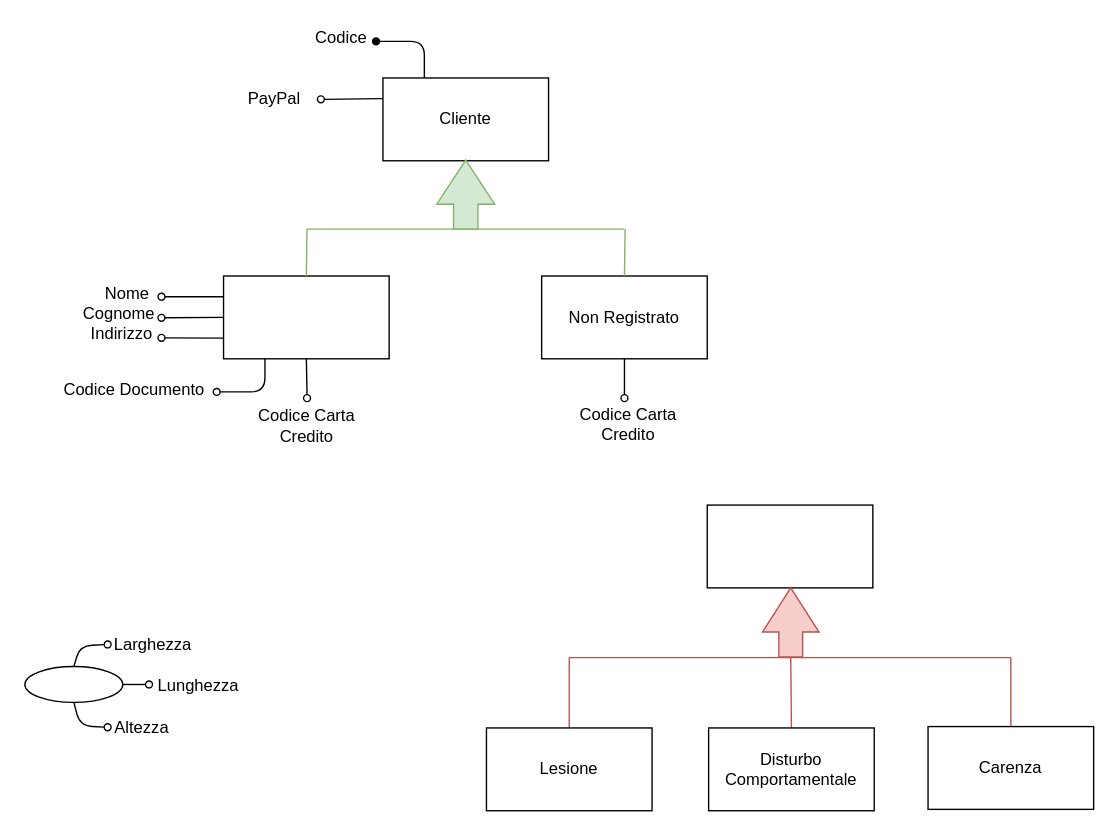
Some shapes in this 1118 by 835 pixel diagram are drawn without their labels. Here are the shapes that lost their labels. From the top down, the centre of each, then its label:
the point at 305,317: Registrato
the point at 789,546: Patologia
the point at 73,683: Dimensione
